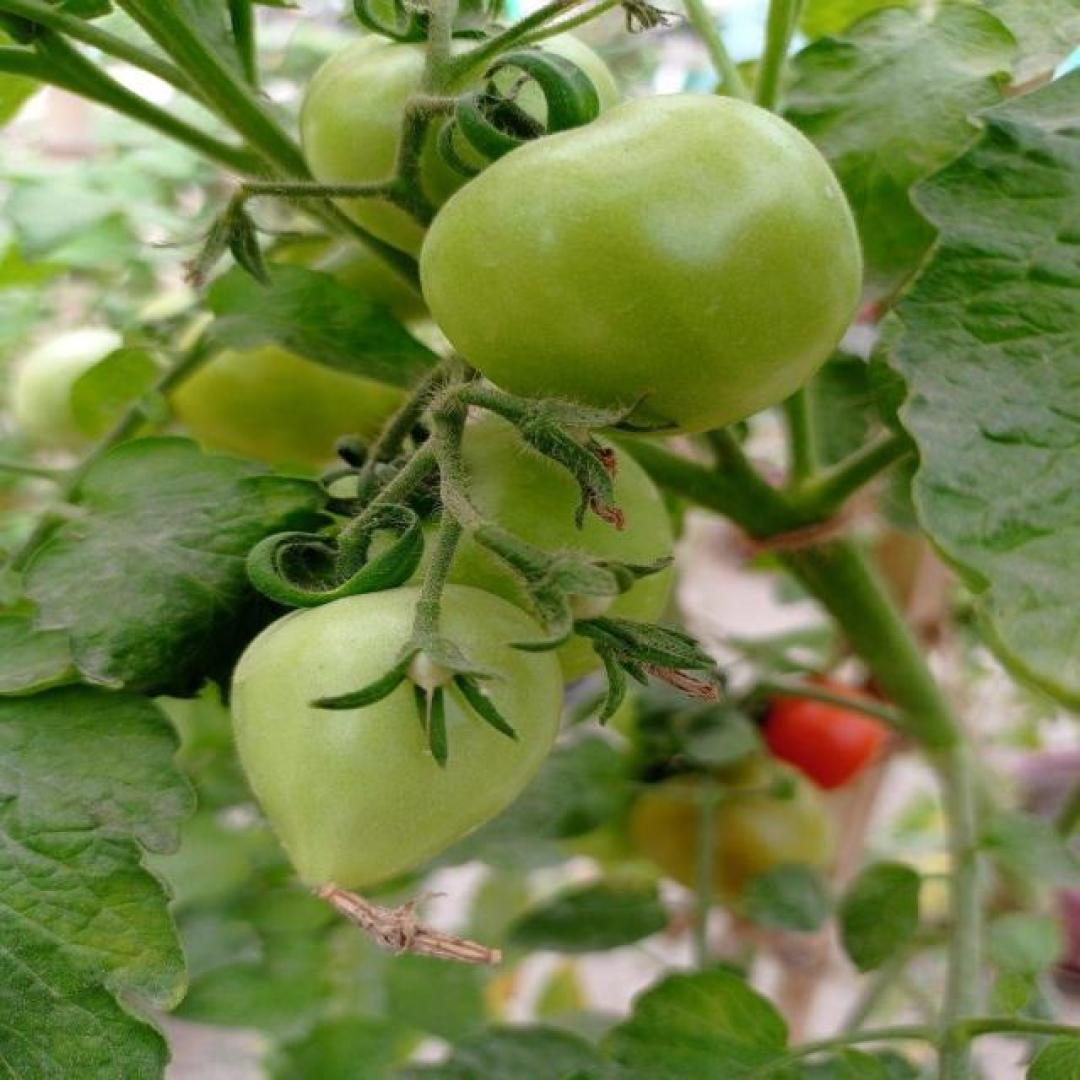mentah: (413, 89, 871, 439), (226, 586, 564, 891), (299, 17, 624, 268)
